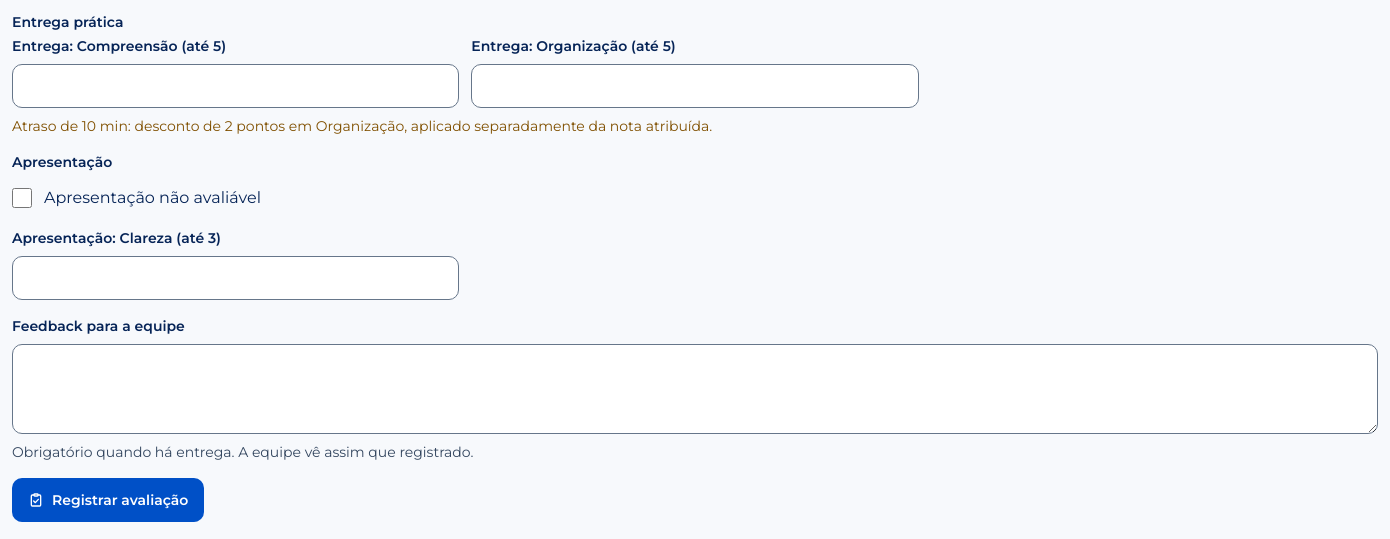
Test: FormAvaliacao (US3, FR-012–015) › feedback obrigatório quando há entrega
Type "5" into the number field labelled "Entrega: Compreensão (até 5)" at coordinates (236, 86), box [12,64,459,108]
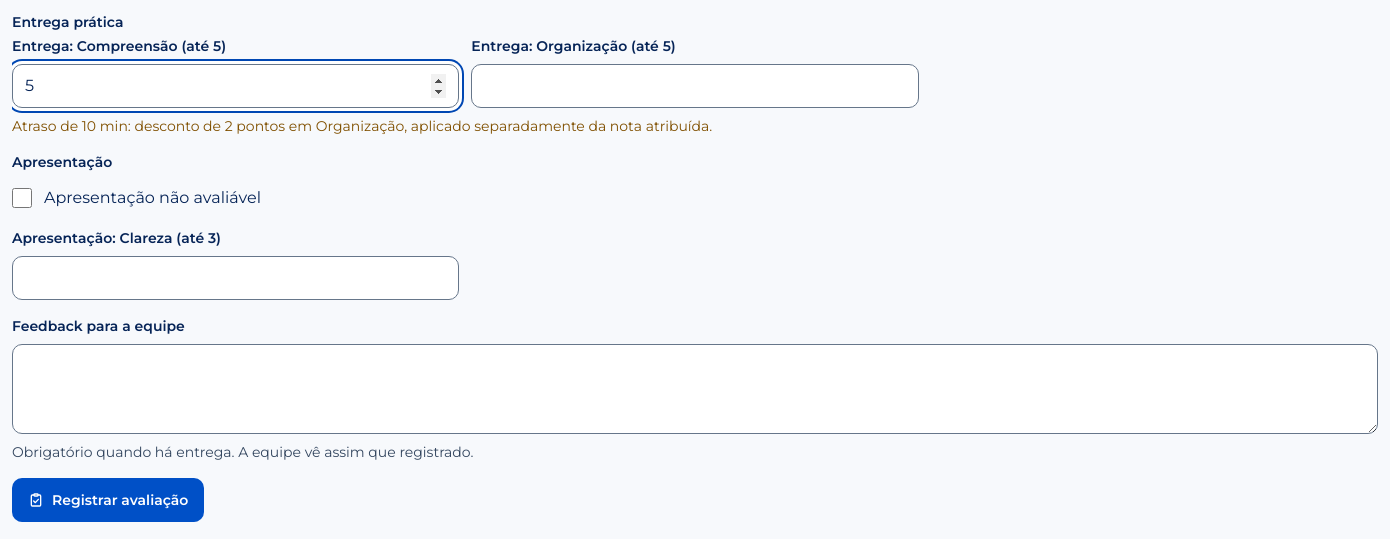
Type "4" into the number field labelled "Entrega: Organização (até 5)" at coordinates (695, 86), box [471,64,919,108]
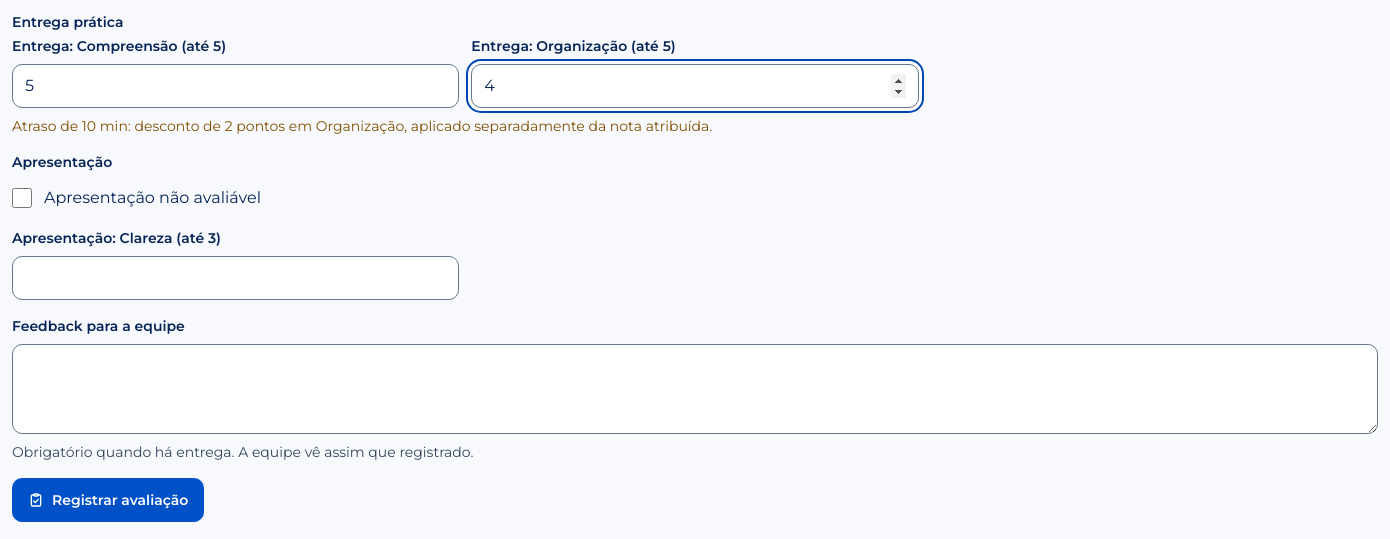
Click the checkbox labelled "Apresentação não avaliável" at coordinates (22, 198), box [12,188,32,208]
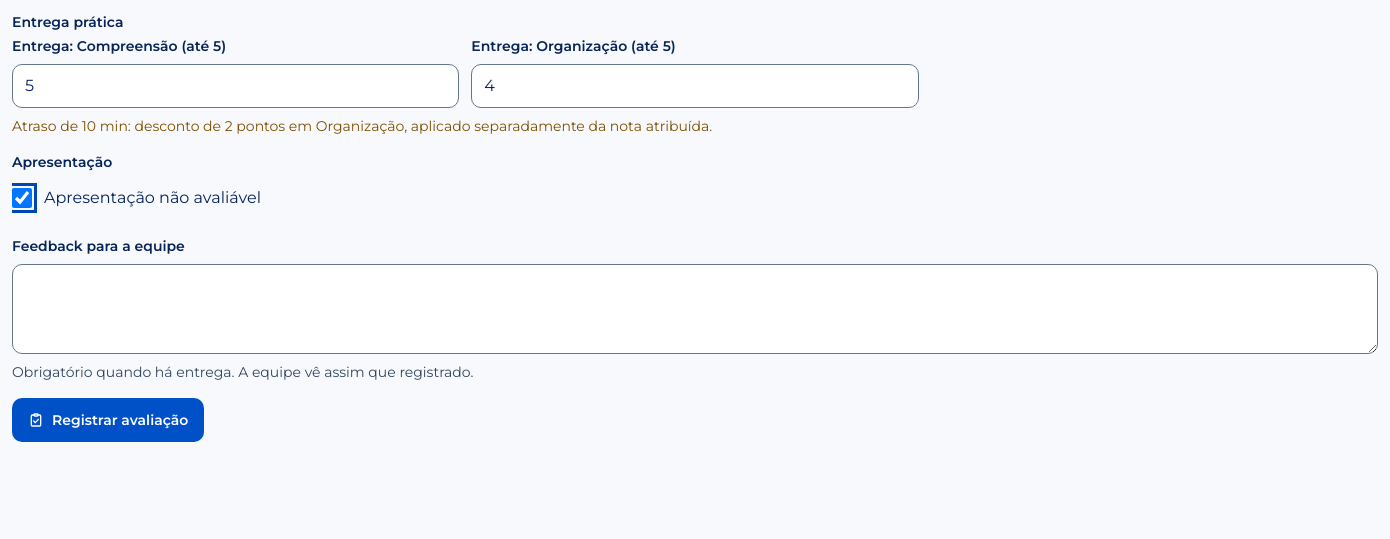
Click the button "Registrar avaliação" at coordinates (108, 420), box [12,398,204,442]
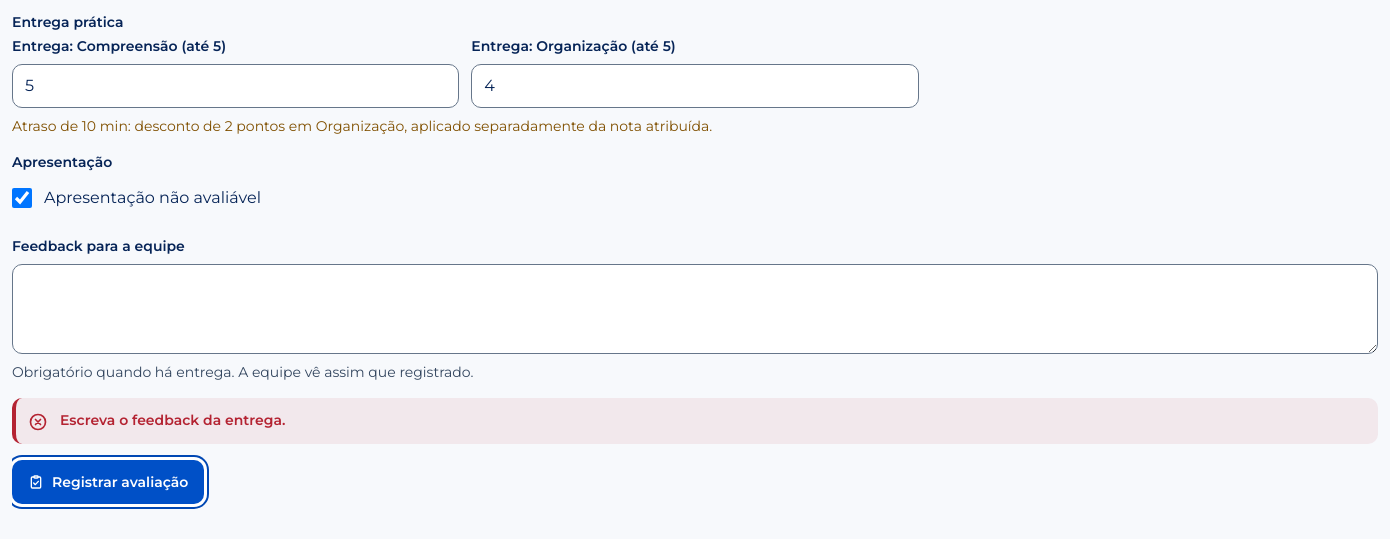
Expected: the text "Escreva o feedback da entrega." is shown, [60,410,285,430]
